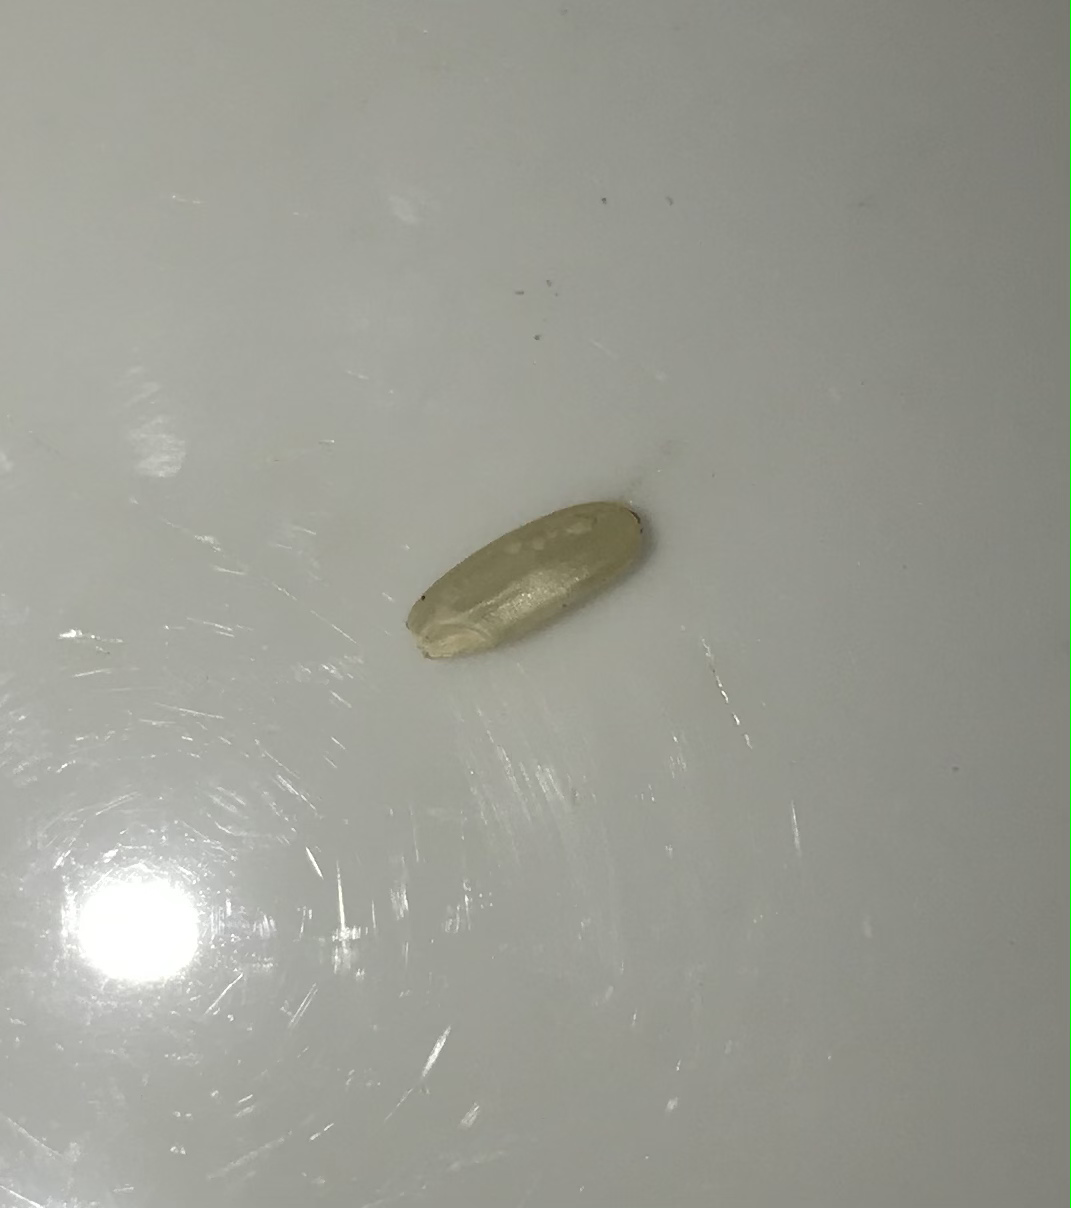Gao Lut Trang: (400, 464, 653, 662)
